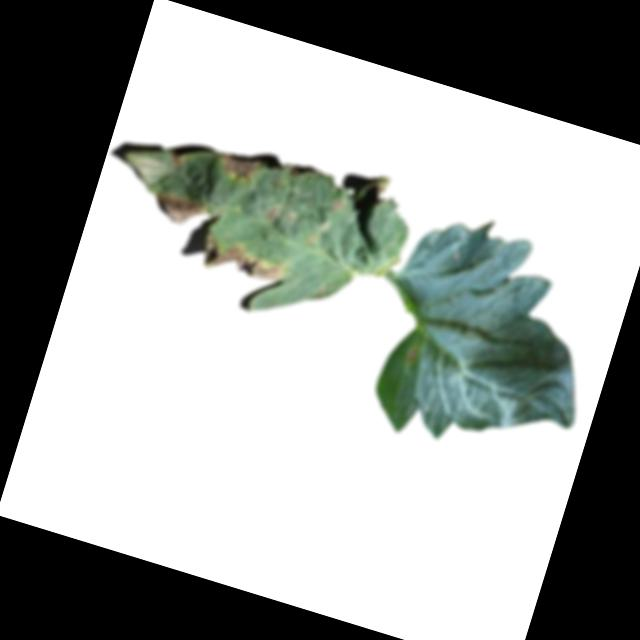Early_blight: (196, 235, 287, 291), (150, 186, 211, 231), (215, 148, 266, 187), (261, 202, 280, 222), (402, 345, 420, 365), (169, 150, 184, 168)
